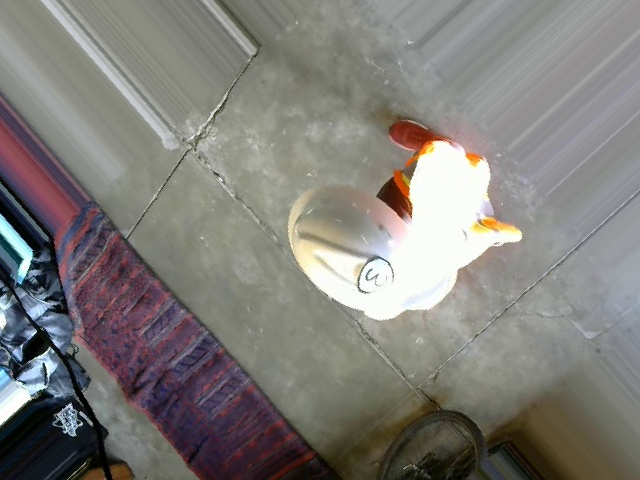three: (346, 251, 401, 305)
